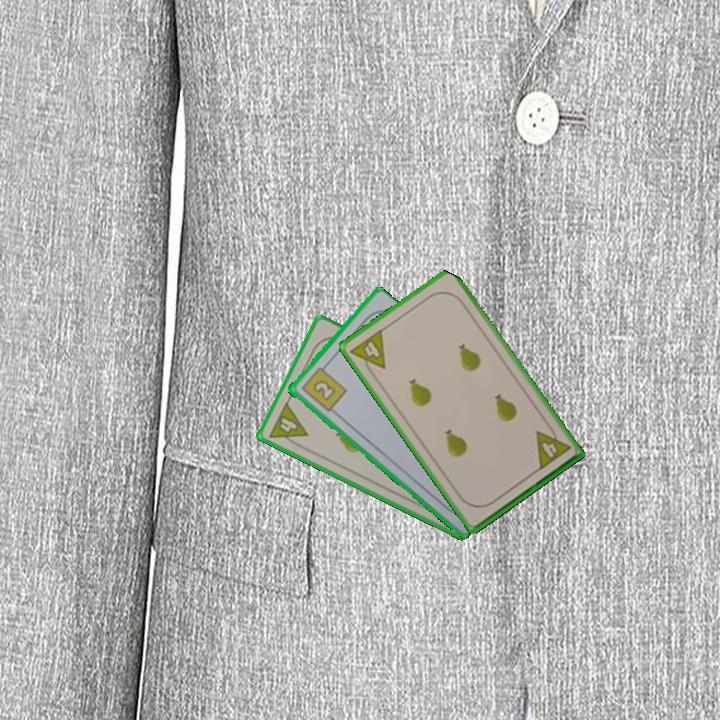2b: (297, 360, 349, 415)
4p: (265, 399, 311, 451), (346, 325, 388, 379), (532, 421, 573, 473)
